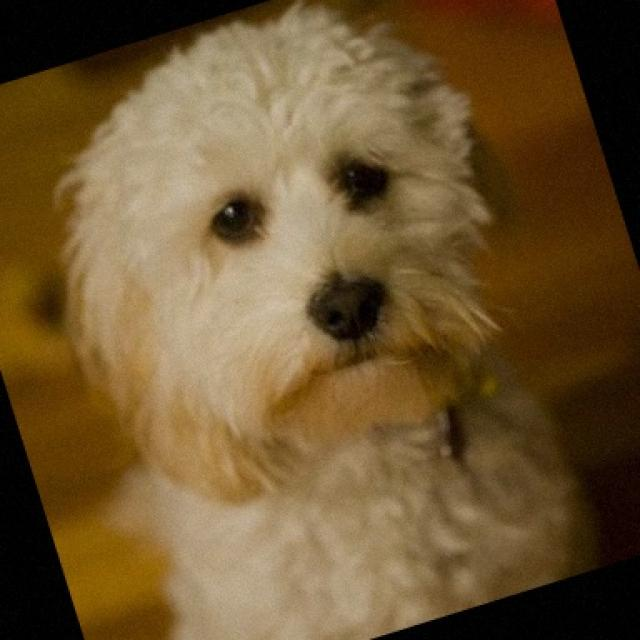sad: (45, 16, 592, 615)
